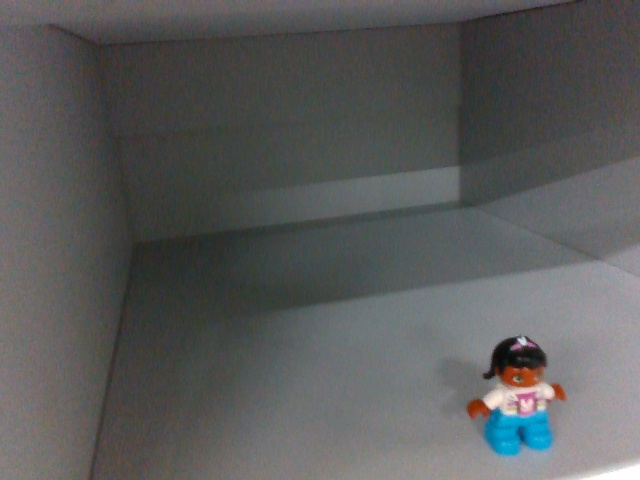people: (465, 333, 573, 457)
